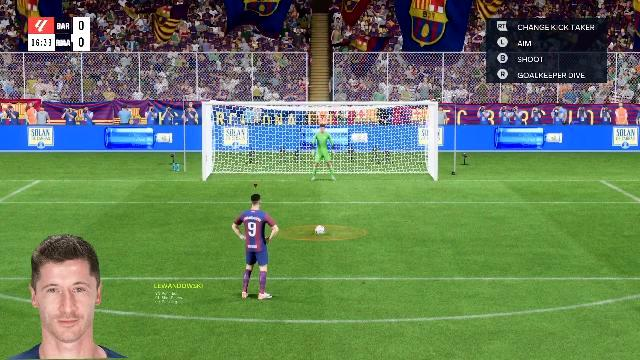bottom-left: (206, 149, 288, 181)
bottom-right: (361, 148, 433, 180)
center-down: (286, 148, 362, 180)
center-up: (289, 104, 356, 146)
circle: (273, 226, 369, 242)
football: (313, 227, 327, 235)
goalkeeper: (304, 124, 348, 182)
player: (228, 195, 280, 300)
top-left: (205, 104, 287, 146)
top-right: (358, 105, 434, 146)
